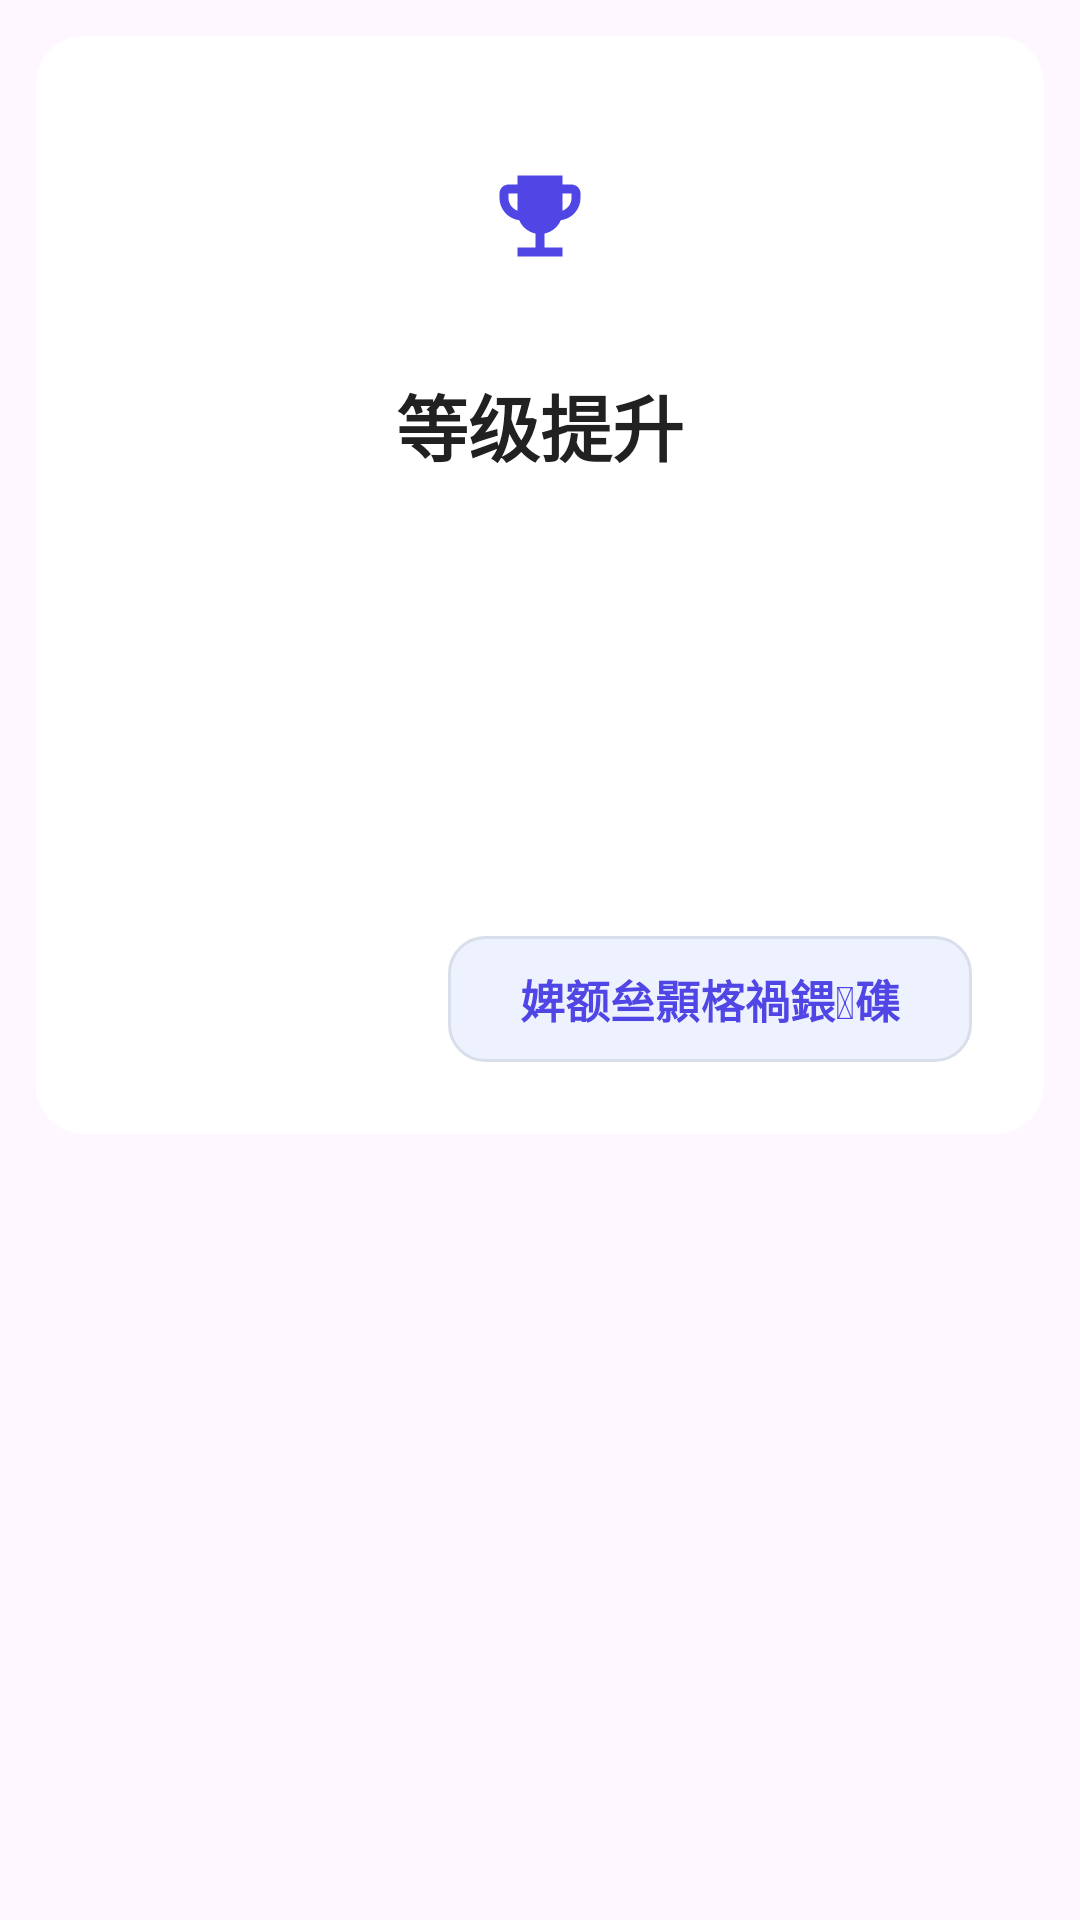

Locate icon controls on the screen. Image size 1080*1920, boxes as BBox(x1, y1, x2, y2).
achievement: BBox(499, 175, 581, 257)
